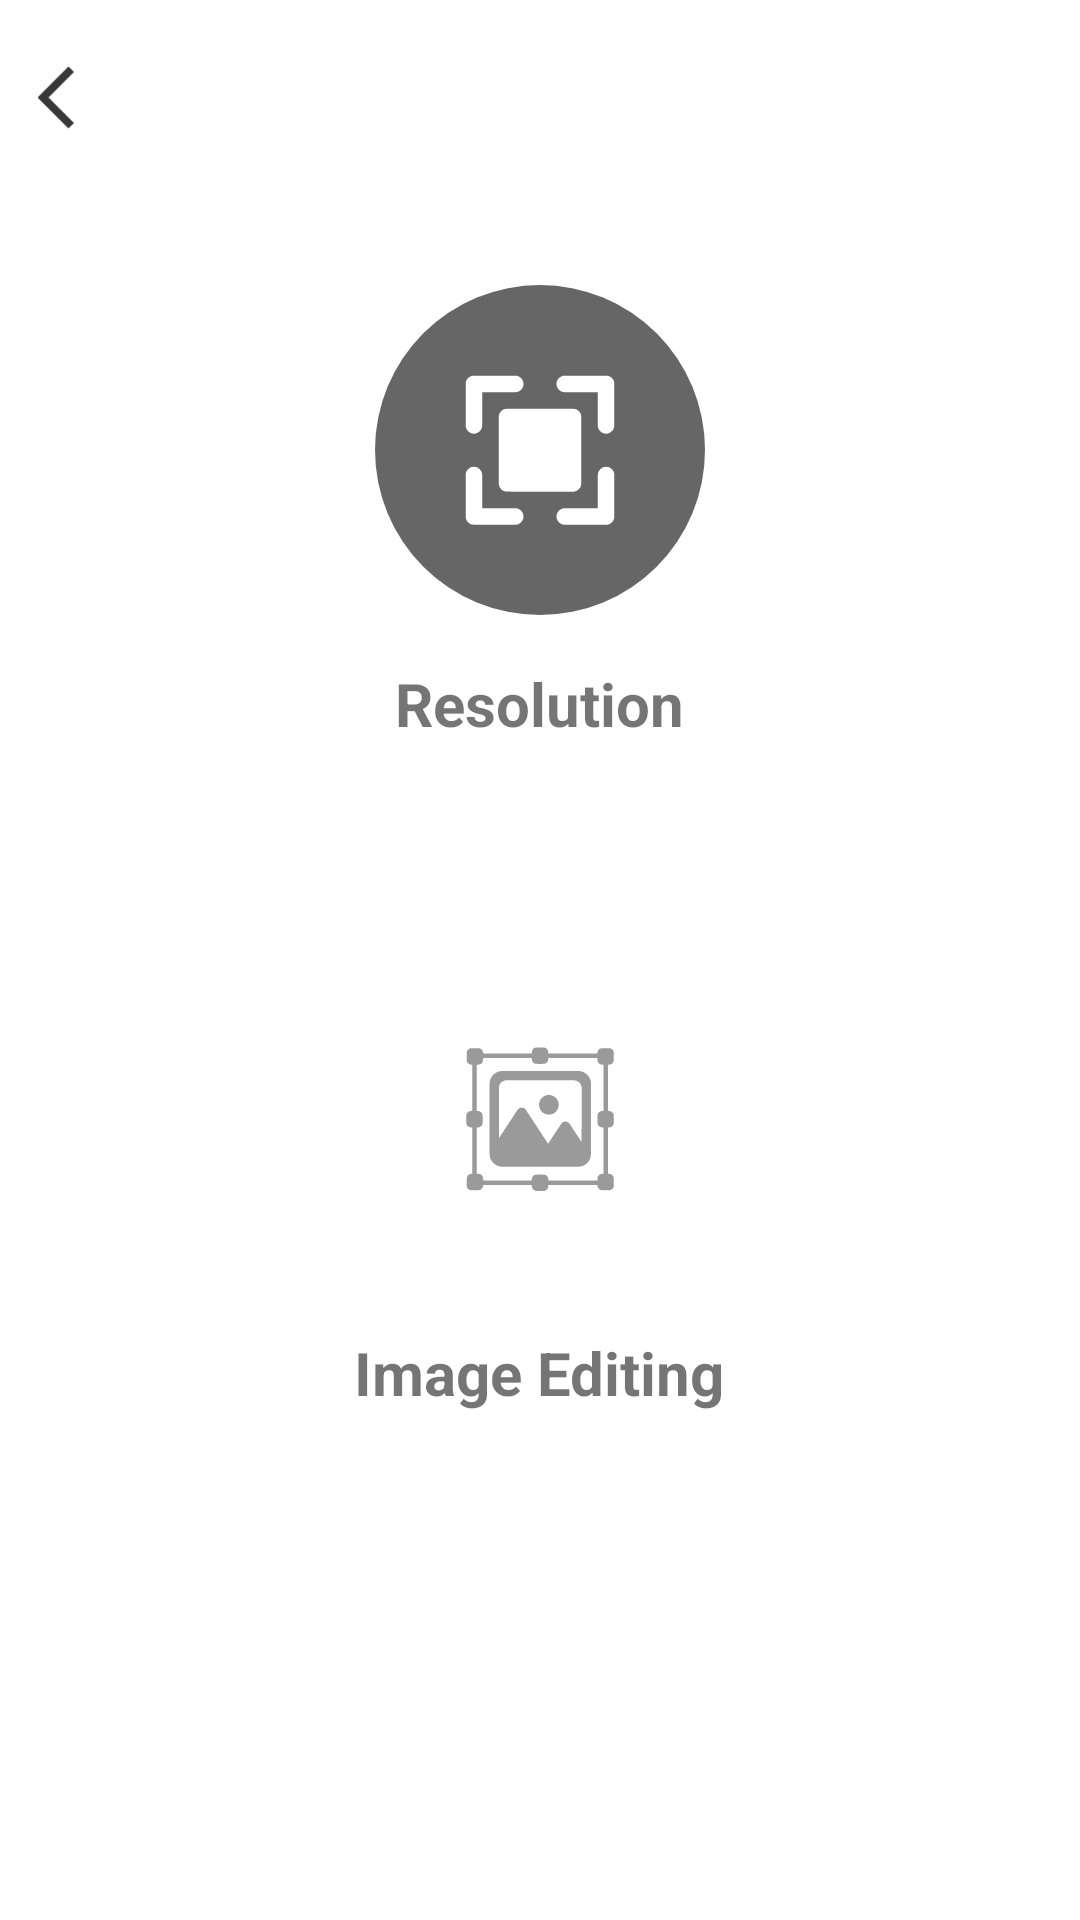

Named icons in this screenshot (1080px x 1920px) and their bounding boxes, bbox=(x1, y1, x2, y2):
arrow back: bbox=(38, 67, 74, 129)
